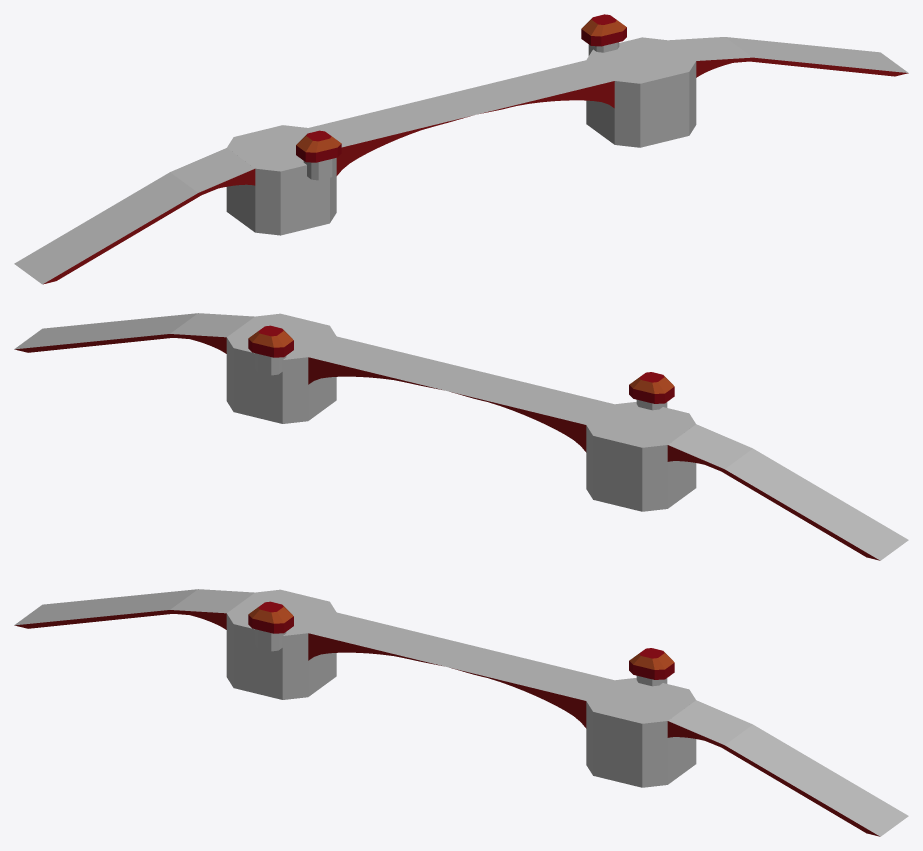
File: South_Park_Bridge.fbx
3 views of the same model, one above another, from view 1: azimuth 30°, elevation 25°; view 2: azimuth 150°, elevation 25°; view 3: azimuth 330°, elevation 25° (orthographic).
Visible parts, largest first — view 1: Cube.030; view 2: Cube.030; view 3: Cube.030.
Boxes of the visible parts, bbox=[...] form: Cube.030: bbox=[14, 14, 908, 284]; Cube.030: bbox=[14, 313, 908, 560]; Cube.030: bbox=[14, 589, 908, 836].
Bounding box in the file's own units: 16761 × 1674 × 2138.
